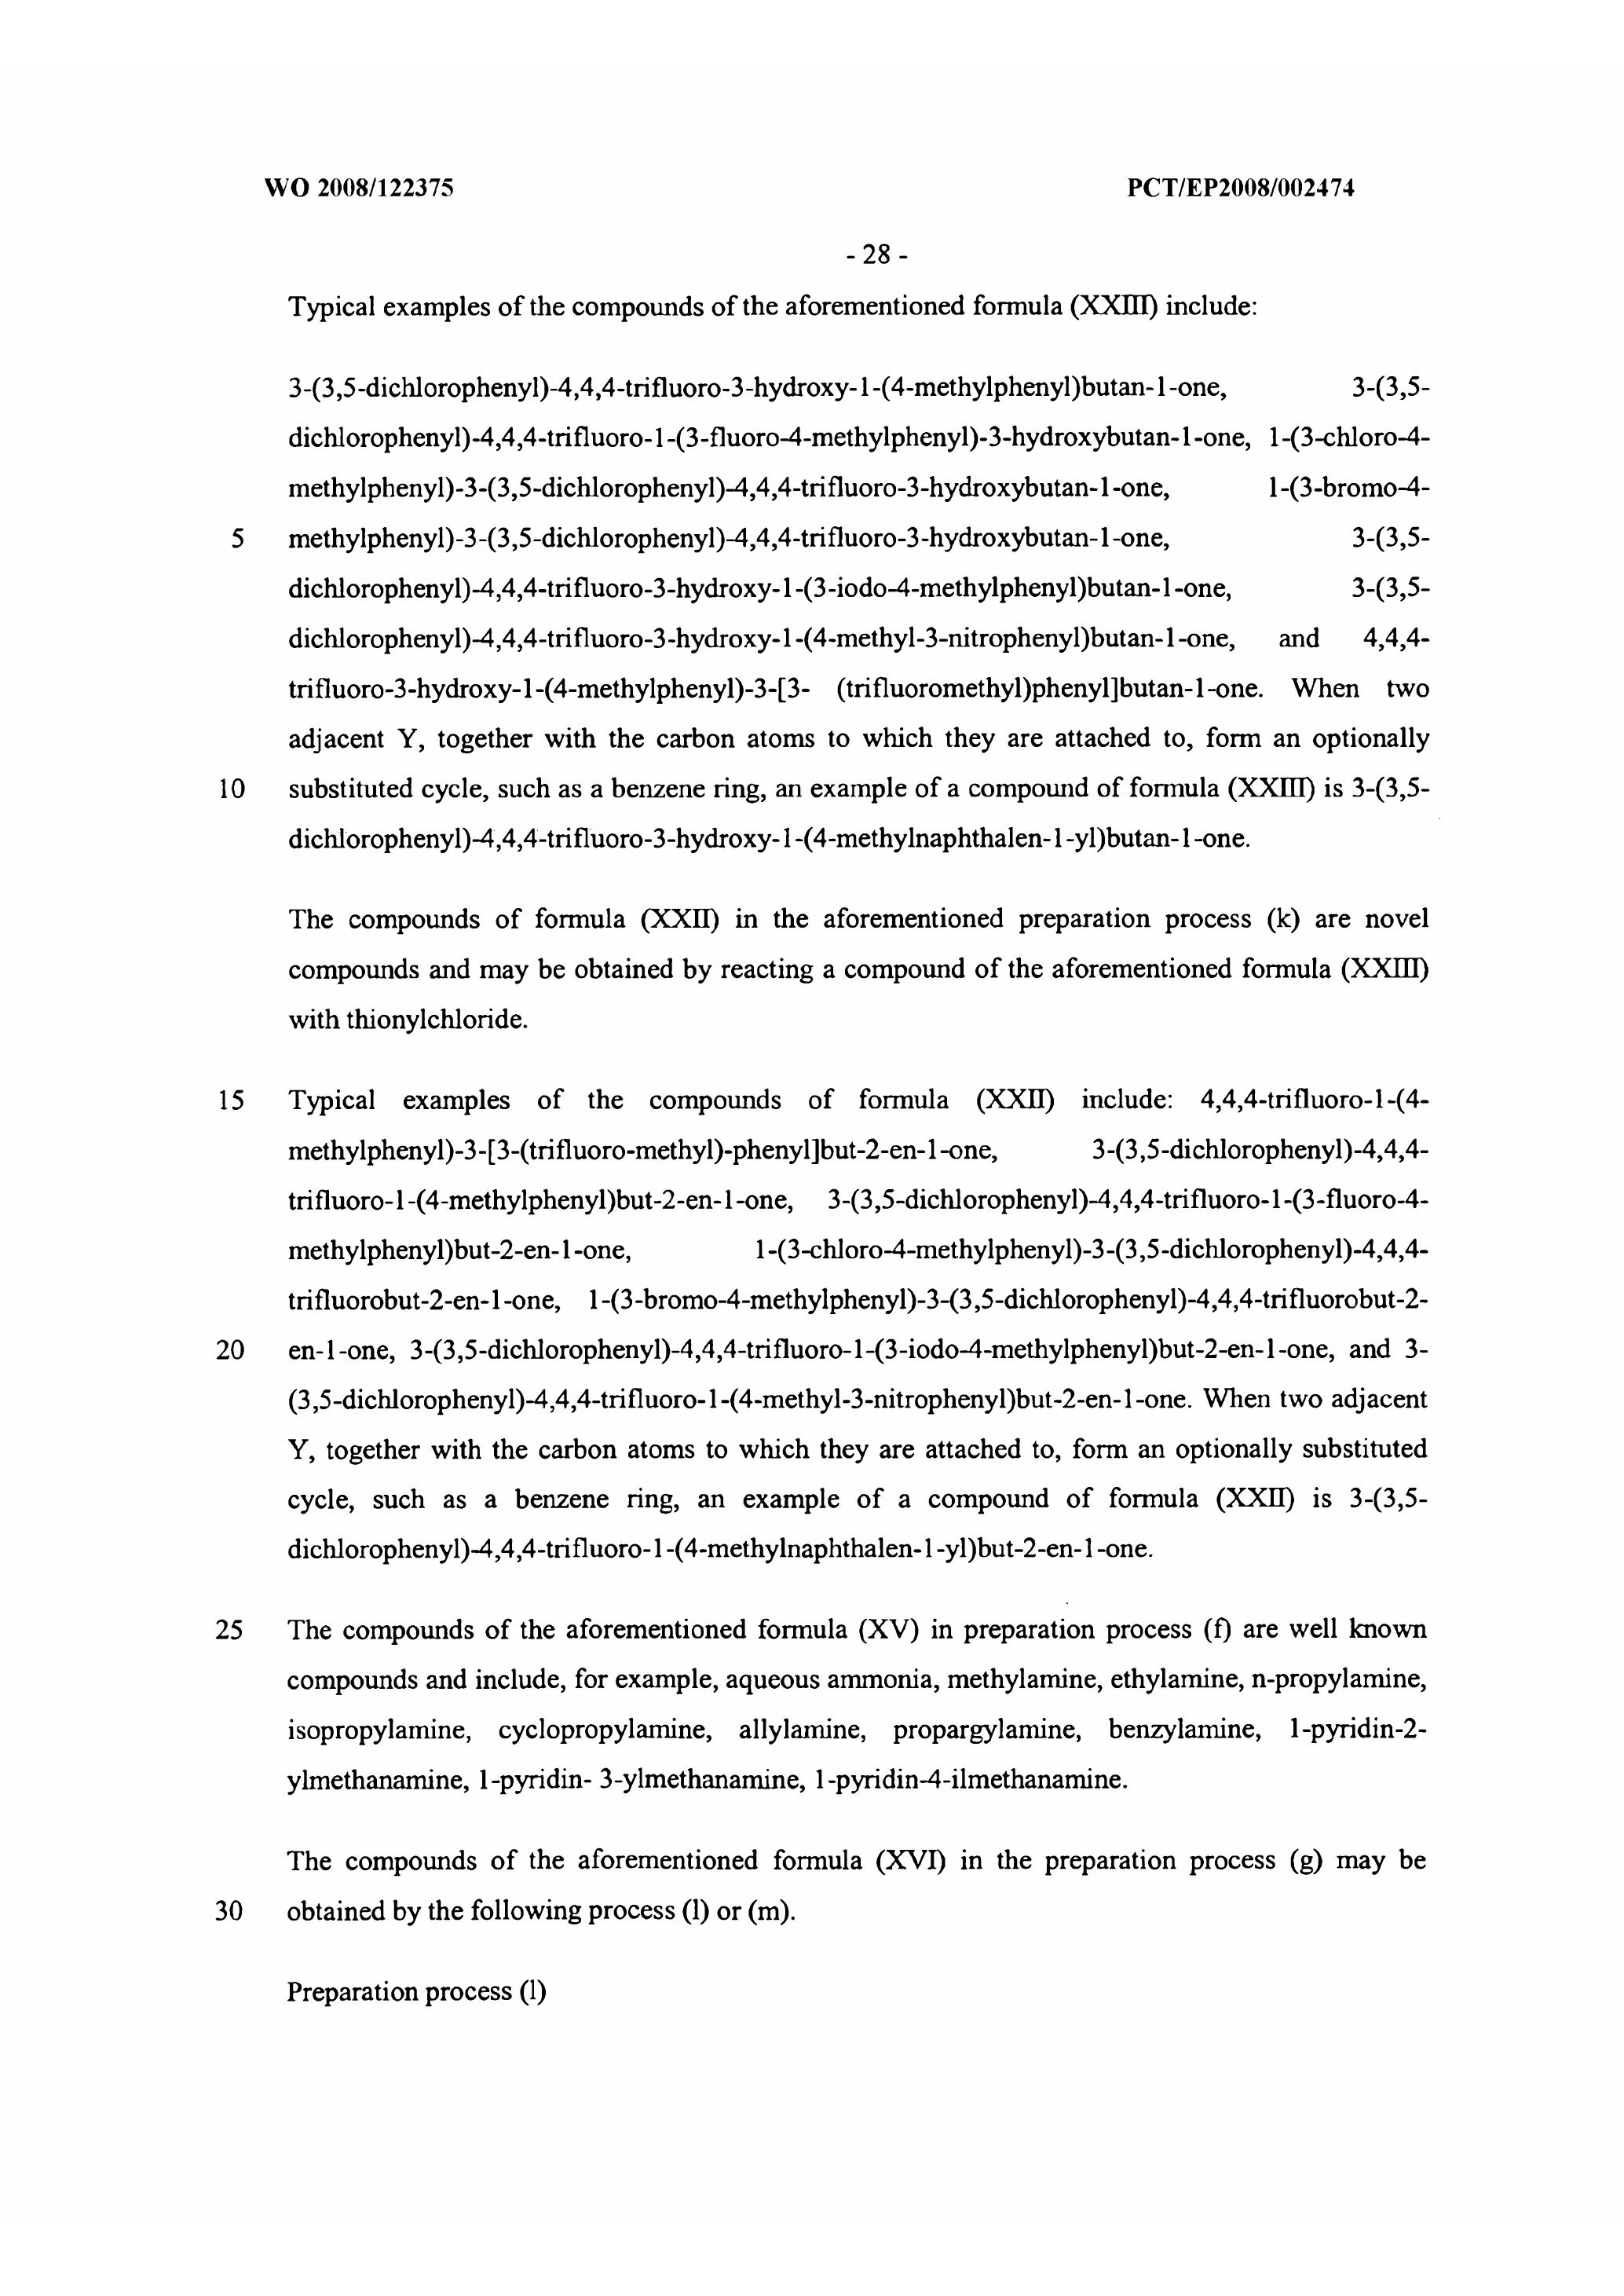substitutes: (250, 278, 1429, 870)
